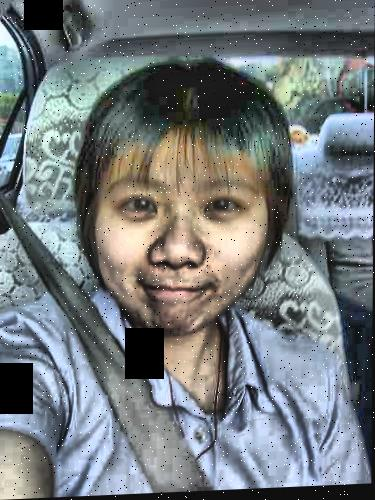seatbelt: (1, 182, 194, 479)
